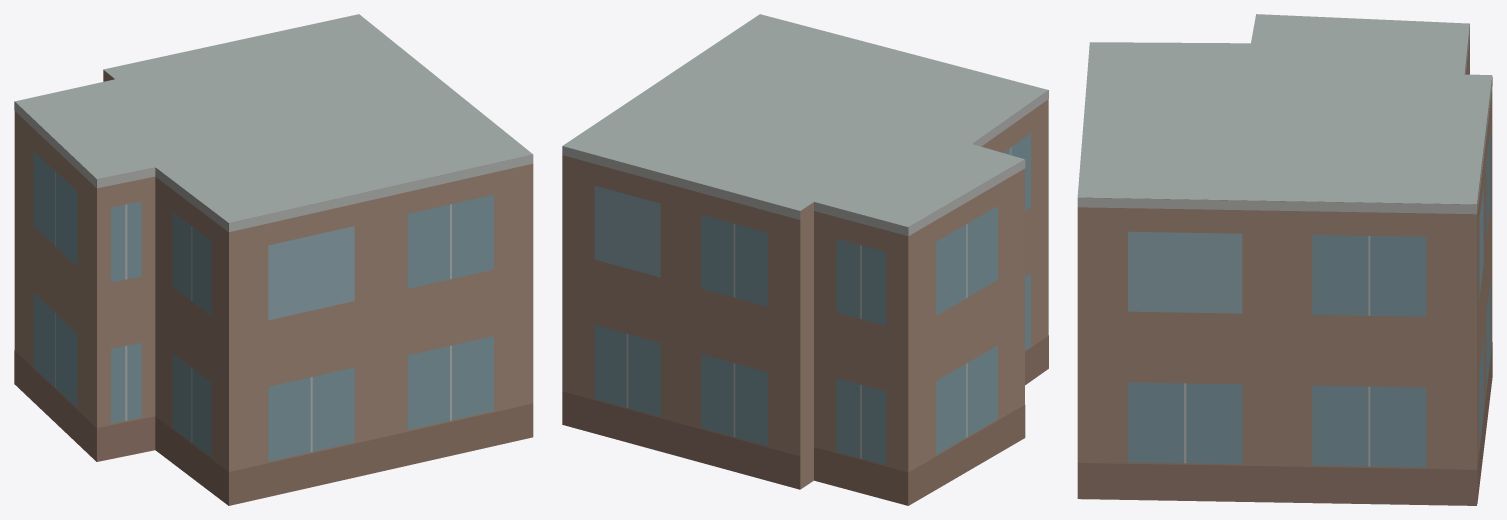
Rendered from survey-upis-32494500.glb.
3 renders of one model, left to right at view 1: azimuth 30°, elevation 25°; view 2: azimuth 150°, elevation 25°; view 3: azimuth 270°, elevation 25°, orthographic. The views are drawn at different scales.
Parts seen in each view (by area): view 1: survey-upis-32494500.tmp; view 2: survey-upis-32494500.tmp; view 3: survey-upis-32494500.tmp.
Boxes of the visible parts, x1,y1,x2,y2 form: survey-upis-32494500.tmp: (14, 14, 533, 505); survey-upis-32494500.tmp: (562, 14, 1048, 505); survey-upis-32494500.tmp: (1077, 14, 1492, 505).
Bounding box in the file's own units: 10.17 × 7.5 × 9.37.
